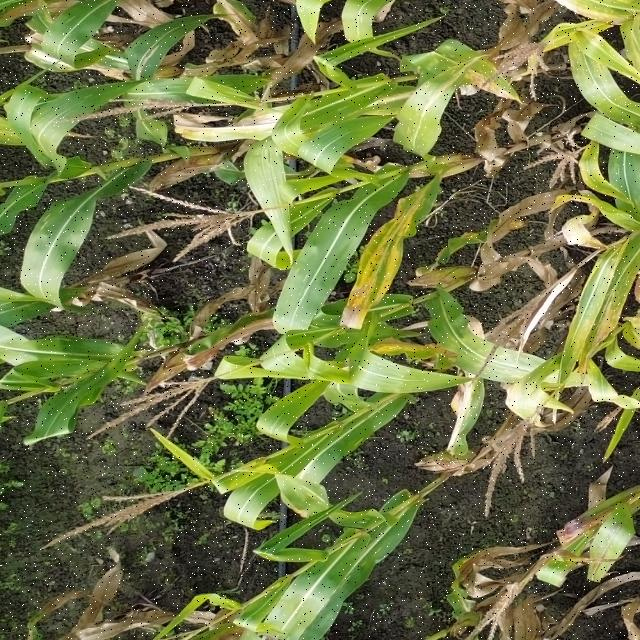gray-leaf-spot: (291, 482, 342, 522)
northern-leaf-blight: (359, 192, 428, 323), (430, 53, 530, 109), (172, 112, 307, 153), (440, 366, 485, 450)
southern-leaf-blight: (413, 46, 461, 138)
